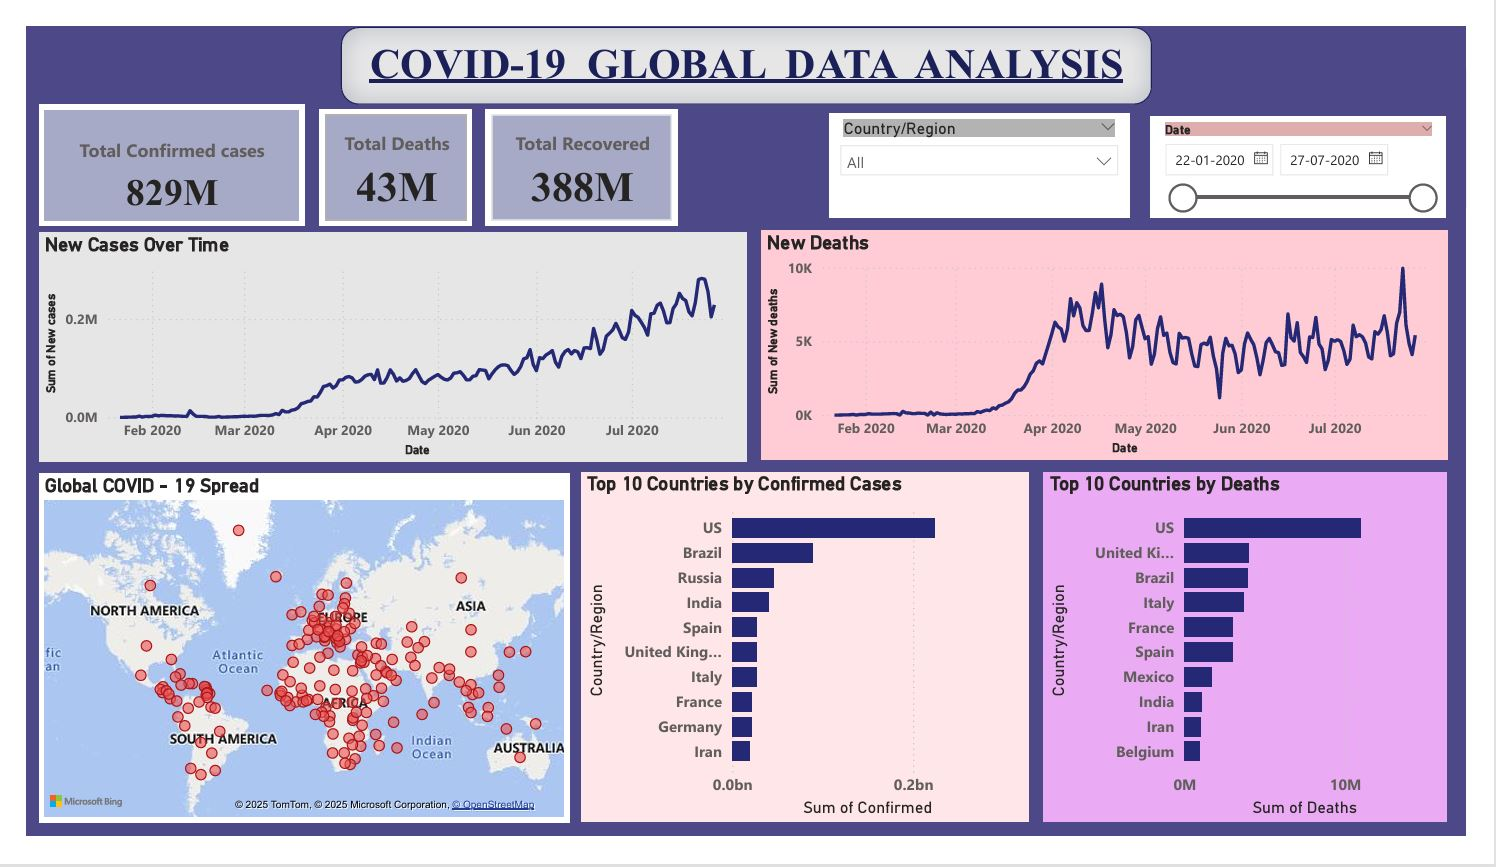

This screenshot's page, from the dashboard's own definition file:
{"tool":"powerbi","page":{"name":"Page 1","canvas":[1280,720],"ordinal":0},"visuals":[{"type":"slicer","fields":{"Values":["cleaned_covid19_global.Date"]},"box":[999.8,80.1,262.9,90.6],"z":0,"group":"g1"},{"type":"cardVisual","fields":{"Data":["Sum(cleaned_covid19_global.Confirmed)"]},"box":[10.7,69.3,236,108],"z":0},{"type":"slicer","fields":{"Values":["cleaned_covid19_global.Country/Region"]},"box":[713.3,77.3,266.8,93.3],"z":1000,"group":"g1"},{"type":"cardVisual","fields":{"Data":["Sum(cleaned_covid19_global.Deaths)"]},"box":[260,73.3,136,104],"z":1000},{"type":"cardVisual","fields":{"Data":["Sum(cleaned_covid19_global.Recovered)"]},"box":[408,73.3,170.7,104],"z":2000},{"type":"map","fields":{"Category":["cleaned_covid19_global.Country/Region"]},"box":[10.7,397.3,472,310.7],"z":3000},{"type":"clusteredBarChart","title":"Top 10 Countries by Confirmed Cases","fields":{"Category":["cleaned_covid19_global.Country/Region"],"Y":["Sum(cleaned_covid19_global.Confirmed)"]},"box":[493.3,396,397.3,310.7],"z":4000},{"type":"clusteredBarChart","title":"Top 10 Countries by Deaths","fields":{"Category":["cleaned_covid19_global.Country/Region"],"Y":["Sum(cleaned_covid19_global.Deaths)"]},"box":[904,396,358.7,310.7],"z":5000},{"type":"lineChart","title":"New Cases Over Time ","fields":{"Category":["cleaned_covid19_global.Date"],"Y":["Sum(cleaned_covid19_global.New cases)"]},"box":[10.7,182.7,629.3,204],"z":6000},{"type":"lineChart","title":"New Deaths","fields":{"Category":["cleaned_covid19_global.Date"],"Y":["Sum(cleaned_covid19_global.New deaths)"]},"box":[653.3,181.3,609.3,204],"z":7000},{"type":"group","id":"g1","title":"Group 1","box":[713.3,77.3,549.3,93.3],"z":8000},{"type":"textbox","box":[279.2,0,720.8,69.4],"z":9000}]}

Visuals, with their boxes in screenshot pixels (x1, y1, x2, y2), scaled from the page's 1280x720 canvas onto the 1496x867 screenshot:
slicer - cleaned_covid19_global.Date: <bbox>1169, 96, 1476, 206</bbox>
cardVisual - Sum(cleaned_covid19_global.Confirmed): <bbox>13, 83, 288, 213</bbox>
slicer - cleaned_covid19_global.Country/Region: <bbox>834, 93, 1145, 205</bbox>
cardVisual - Sum(cleaned_covid19_global.Deaths): <bbox>304, 88, 463, 213</bbox>
cardVisual - Sum(cleaned_covid19_global.Recovered): <bbox>477, 88, 676, 213</bbox>
map - cleaned_covid19_global.Country/Region: <bbox>13, 478, 564, 853</bbox>
"Top 10 Countries by Confirmed Cases" clusteredBarChart: <bbox>577, 477, 1041, 851</bbox>
"Top 10 Countries by Deaths" clusteredBarChart: <bbox>1057, 477, 1476, 851</bbox>
"New Cases Over Time " lineChart: <bbox>13, 220, 748, 466</bbox>
"New Deaths" lineChart: <bbox>764, 218, 1476, 464</bbox>
"Group 1" group: <bbox>834, 93, 1476, 205</bbox>
textbox: <bbox>326, 0, 1169, 84</bbox>
